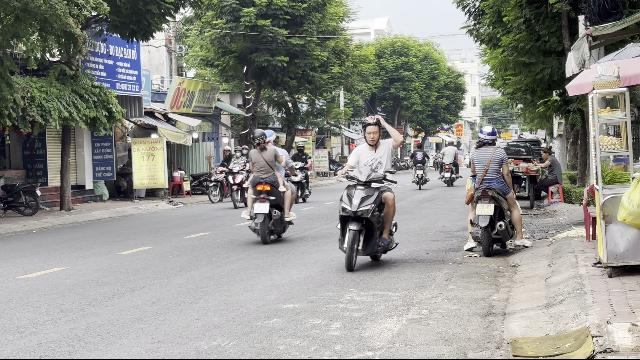helmet: (360, 115, 384, 148), (476, 126, 498, 146), (251, 128, 267, 148), (264, 129, 276, 145)
licenseplate: (476, 204, 494, 214), (254, 203, 270, 213)
motorcyclist: (332, 114, 401, 270), (461, 124, 525, 256), (242, 127, 296, 242)
